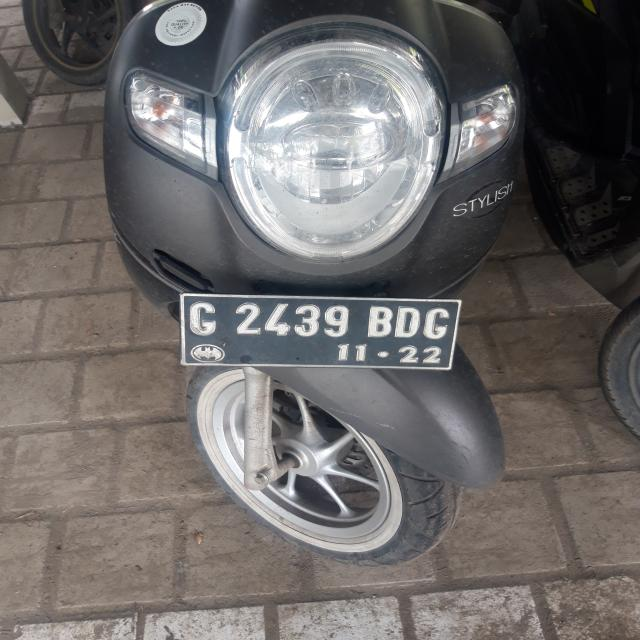plate: (182, 292, 460, 370)
